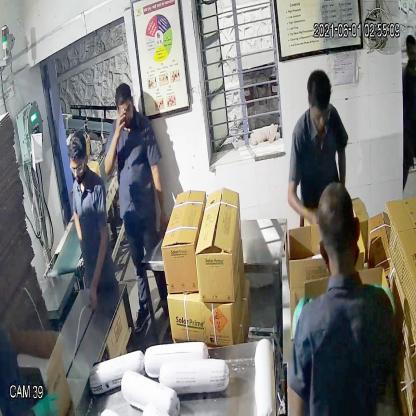goggles: (66, 157, 90, 181)
